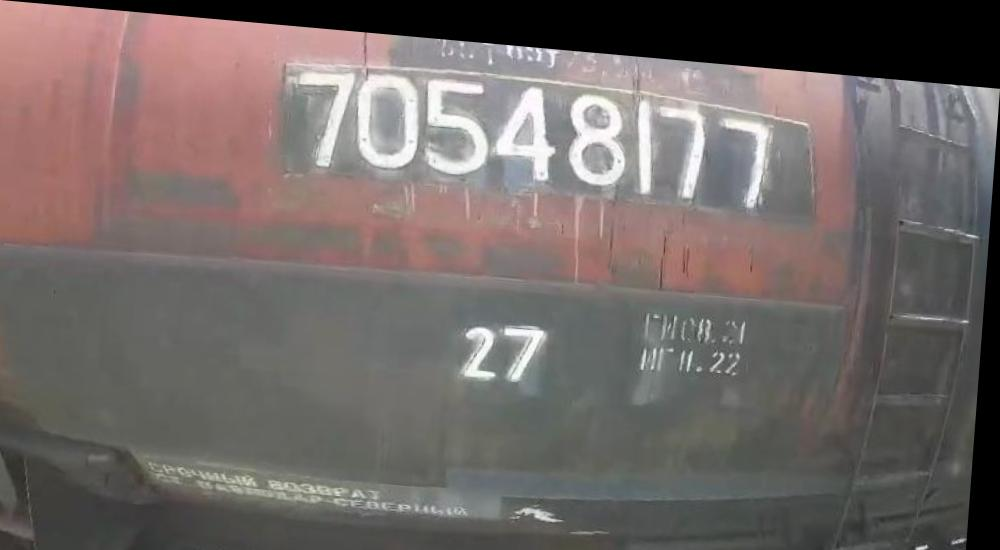Wagon-number: (285, 55, 786, 204)
